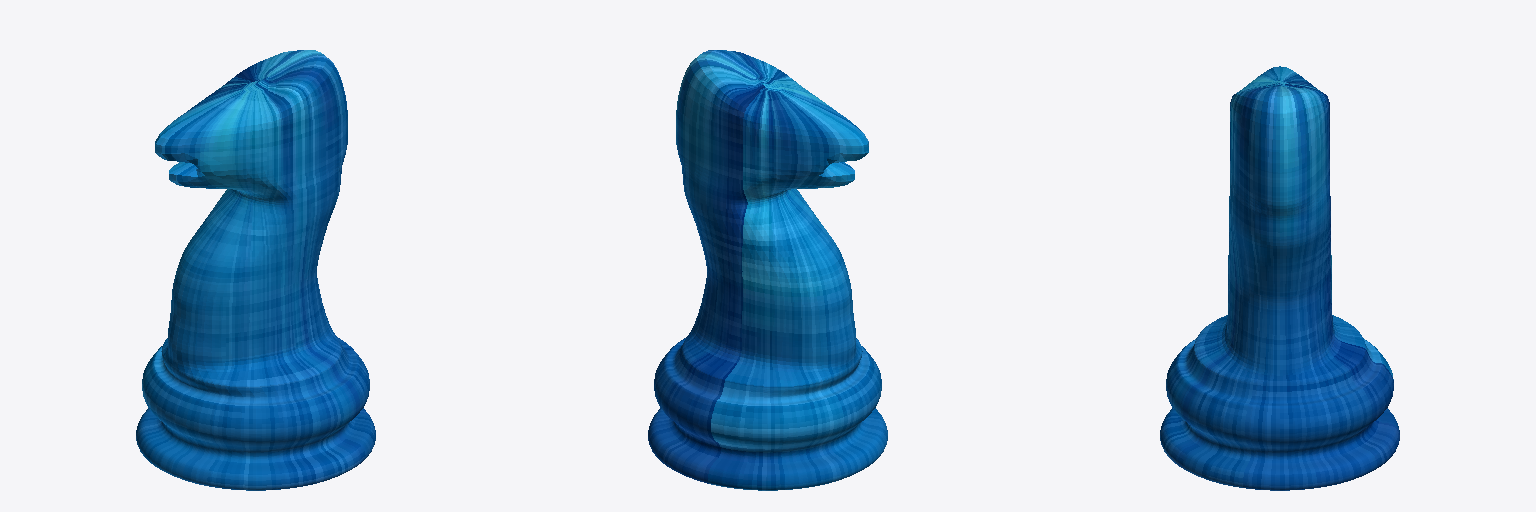
The picture shows the model from 3 angles: view 1: azimuth 30°, elevation 25°; view 2: azimuth 150°, elevation 25°; view 3: azimuth 270°, elevation 25°; orthographic projection.
Parts seen in each view (by area): view 1: mesh002; view 2: mesh002; view 3: mesh002.
Boxes of the visible parts, box(x1,y1,x2,y2) form: mesh002: box(136, 50, 375, 490); mesh002: box(648, 50, 887, 490); mesh002: box(1160, 66, 1399, 490).
Size of the model in its own units: 4.79 by 8.28 by 4.79.
1 materials, 1 textured.